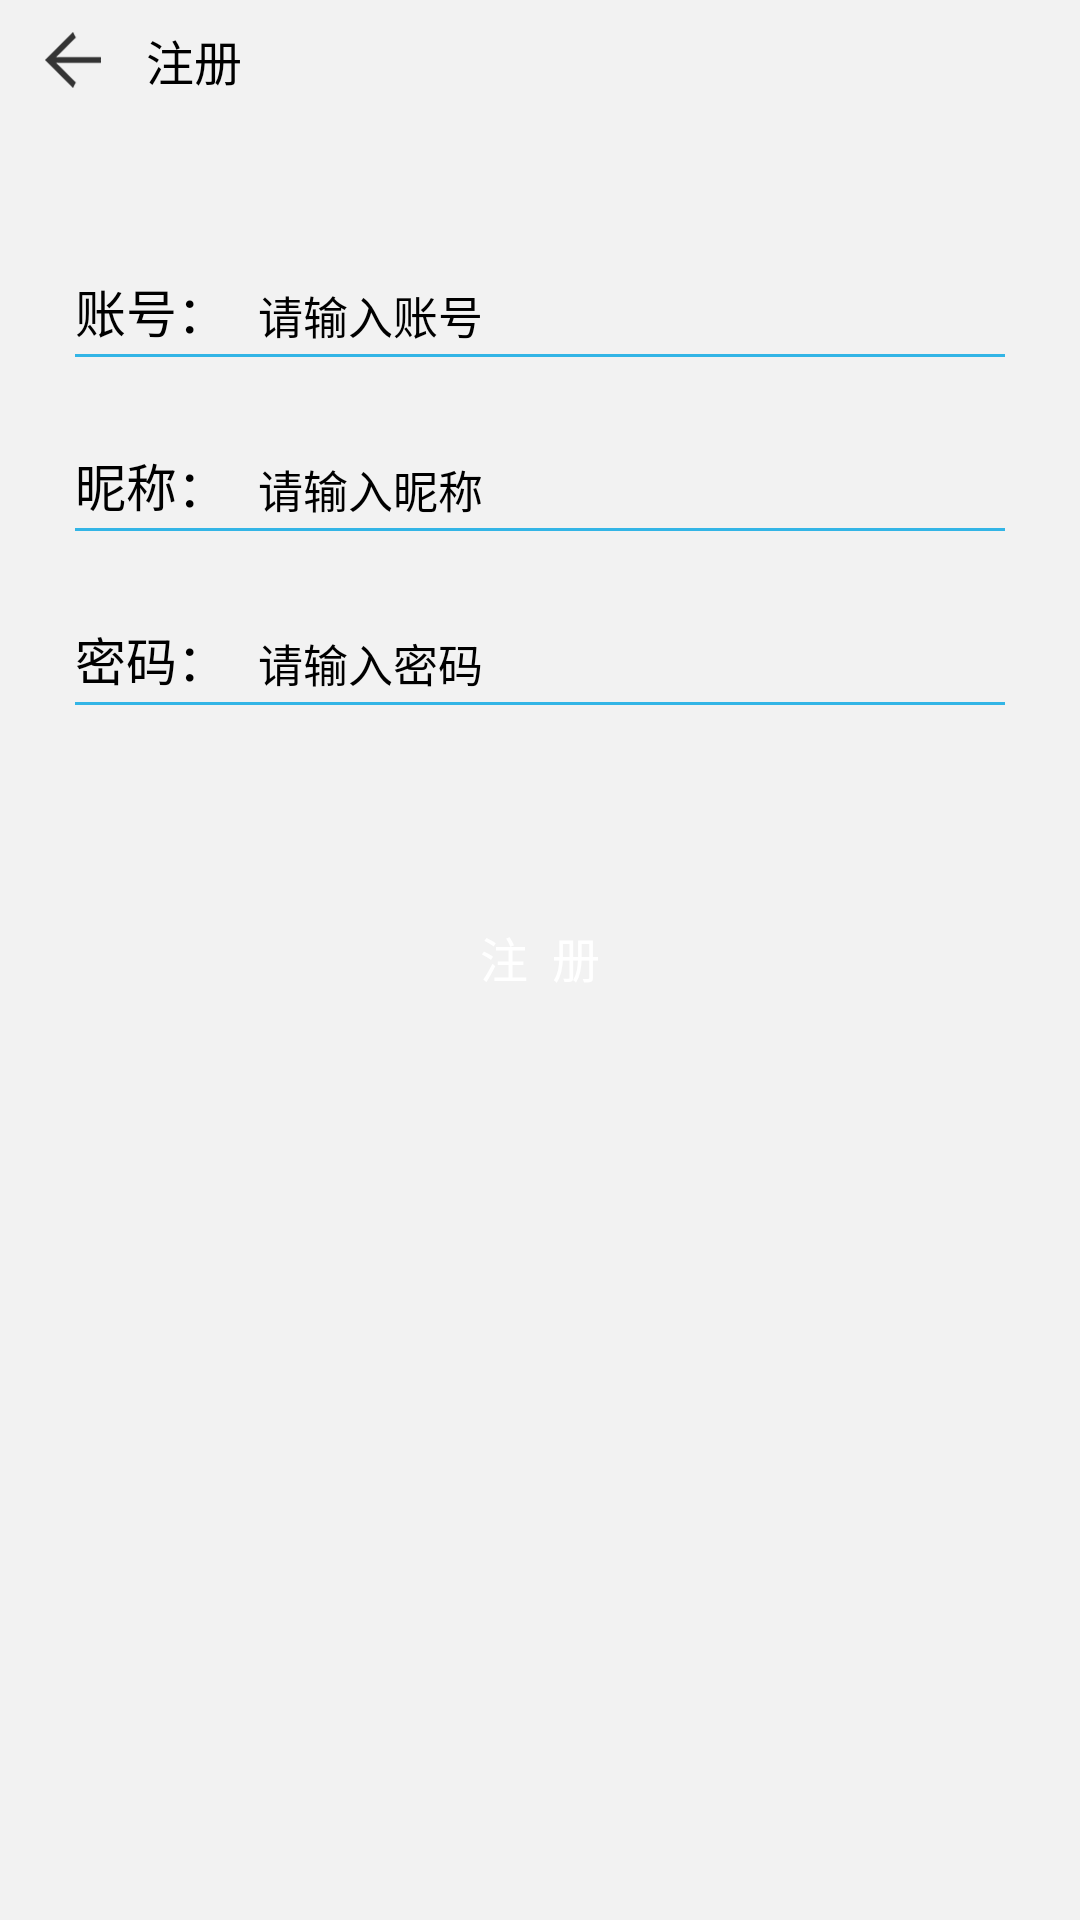

Screen size 1080px×1920px. Icon name, then its box in pixels as bbox(x1, y1, x2, y2):
back: bbox(45, 32, 101, 88)
